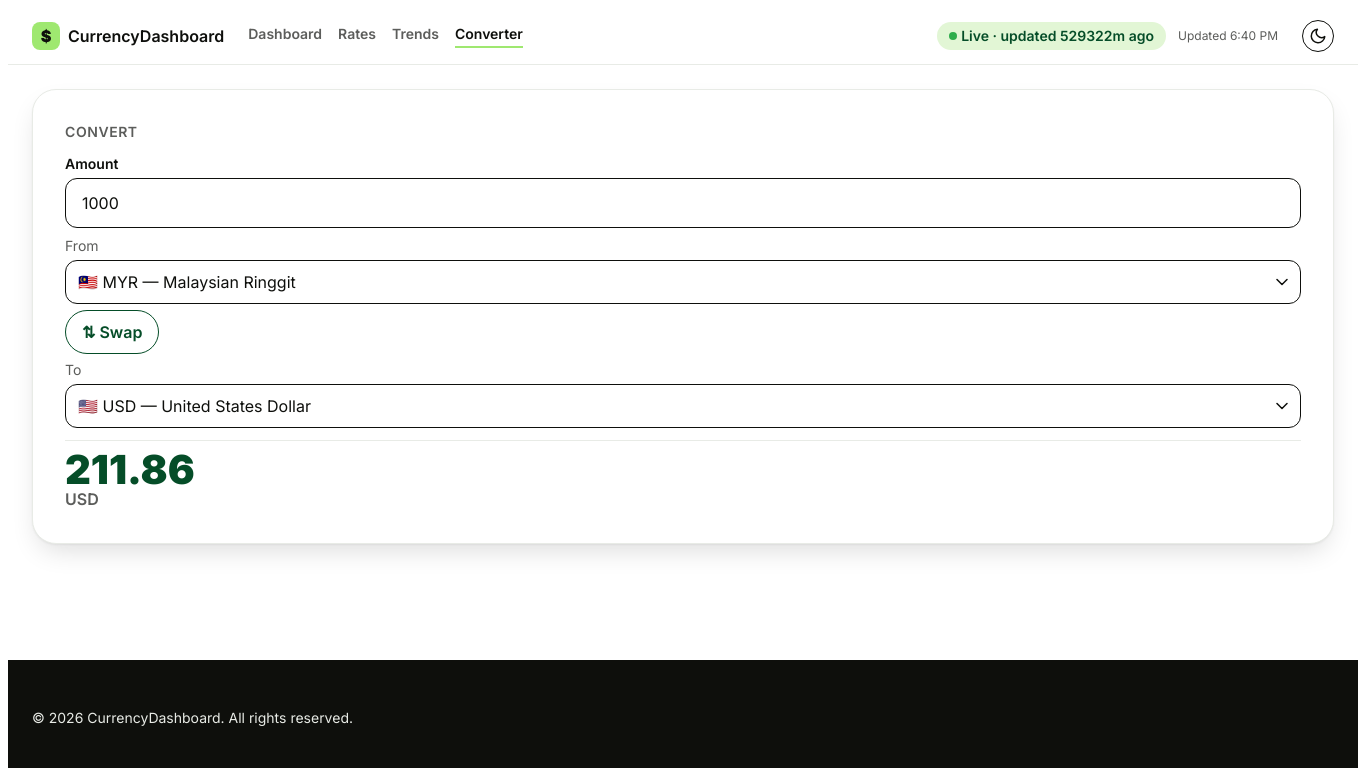
Converter › converts amount
Expected: the element with test id "converter-result" reads "211.86 USD", [65, 440, 1301, 511]
Type "100" into the number field labelled "Amount" at (683, 203), box [65, 178, 1301, 228]
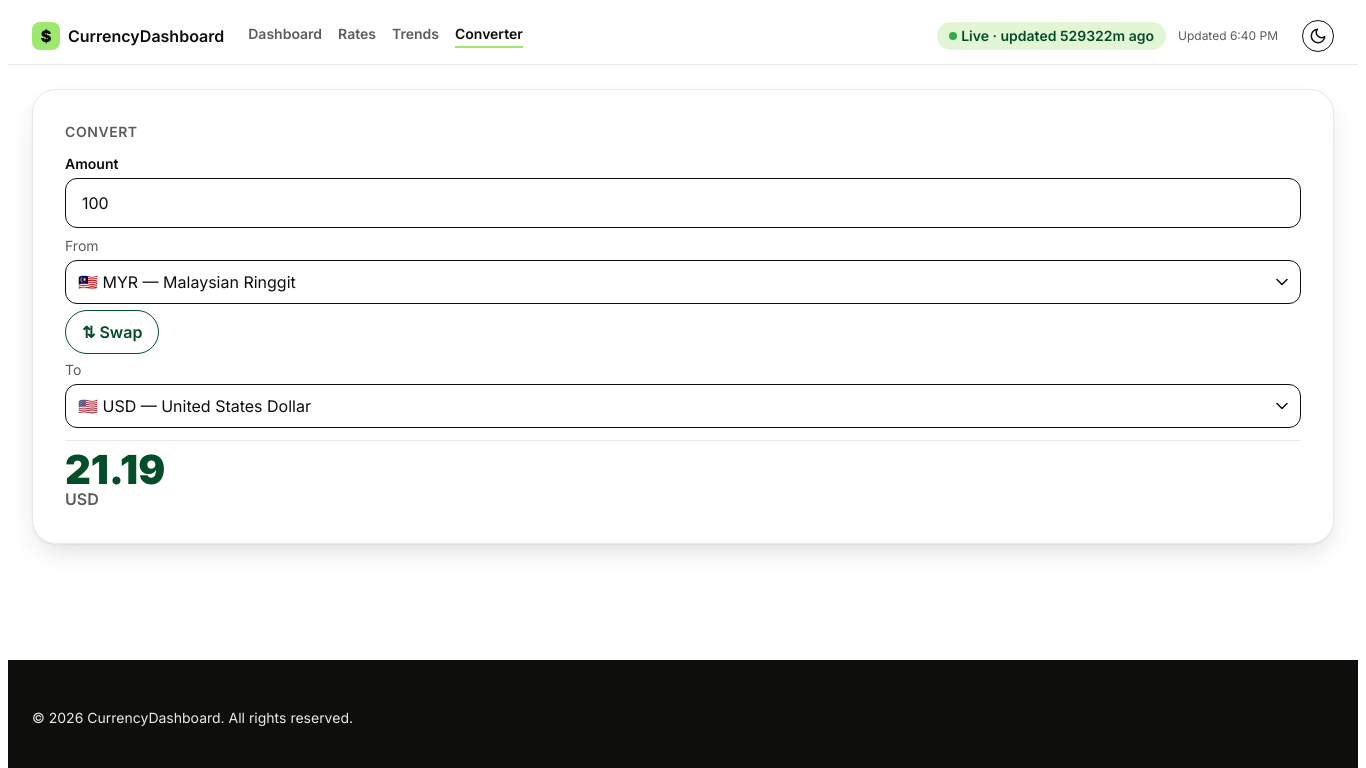
Result: the element with test id "converter-result" reads "21.19 USD" at [65, 440, 1301, 511]
